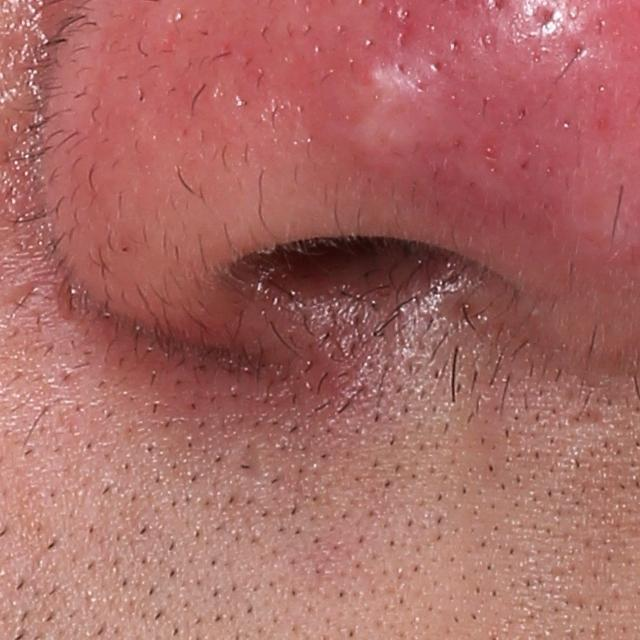atrophic_scar: (234, 436, 269, 485), (564, 402, 607, 427)
hypertrophic_scar: (333, 60, 421, 172)
